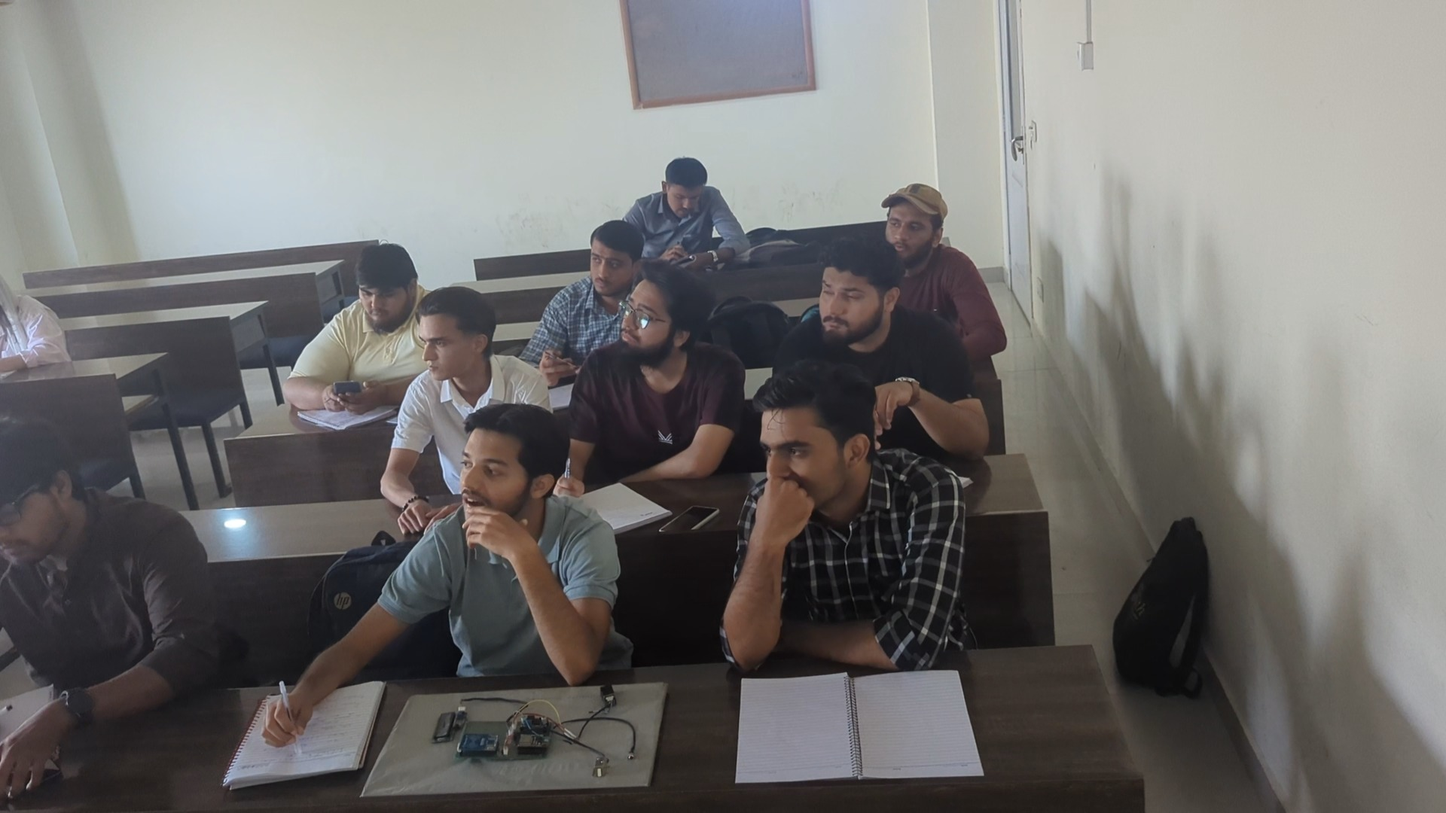look_forward: (723, 353, 963, 597), (425, 416, 652, 649), (793, 245, 936, 363), (415, 288, 539, 406), (596, 275, 712, 401), (871, 176, 993, 282), (569, 227, 642, 316)
read: (1, 434, 211, 775)
using_device: (271, 231, 424, 408), (640, 144, 759, 273)
